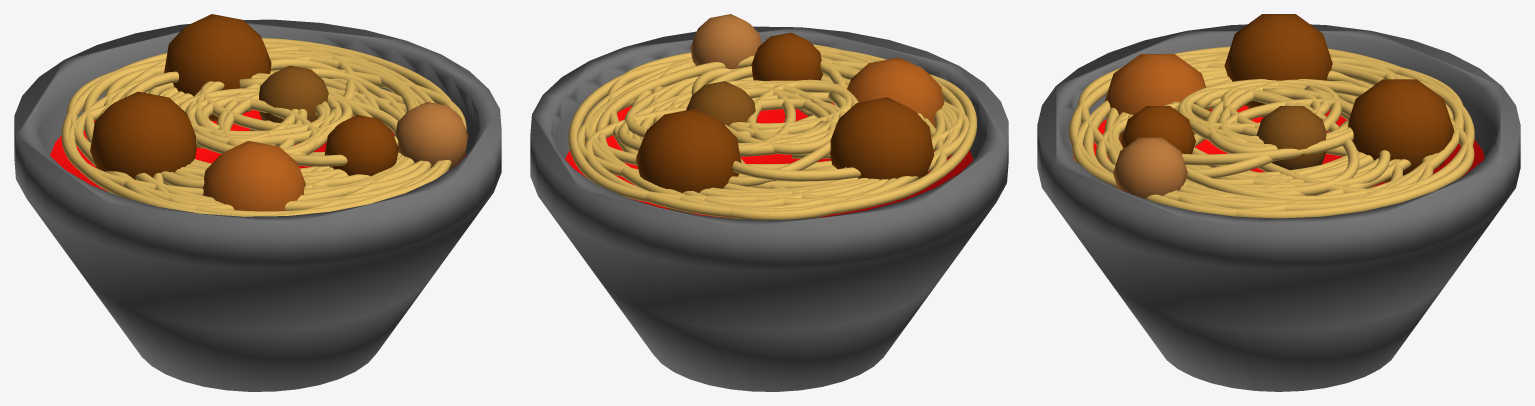
The model's file is Spaghetti hat.gltf.
3 renders of one model, left to right at view 1: azimuth 30°, elevation 25°; view 2: azimuth 150°, elevation 25°; view 3: azimuth 270°, elevation 25°, orthographic.
Visible parts, largest first — view 1: Silent G like spaghetti; view 2: Silent G like spaghetti; view 3: Silent G like spaghetti.
Boxes of the visible parts, left/top/right/bottom form: Silent G like spaghetti: left=14, top=14, right=501, bottom=391; Silent G like spaghetti: left=530, top=14, right=1008, bottom=391; Silent G like spaghetti: left=1037, top=14, right=1520, bottom=391.
Bounding box in the file's own units: 0.5166 × 0.3174 × 0.5166.
